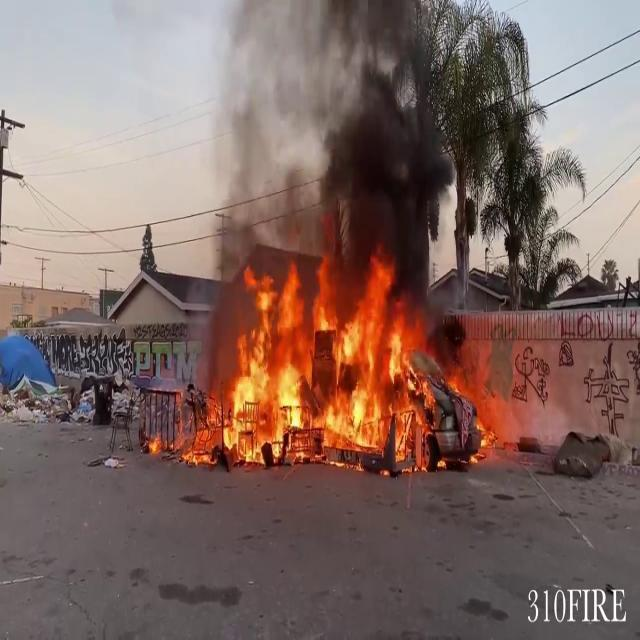Fire: (205, 249, 440, 467)
Smoke: (207, 0, 455, 259)
